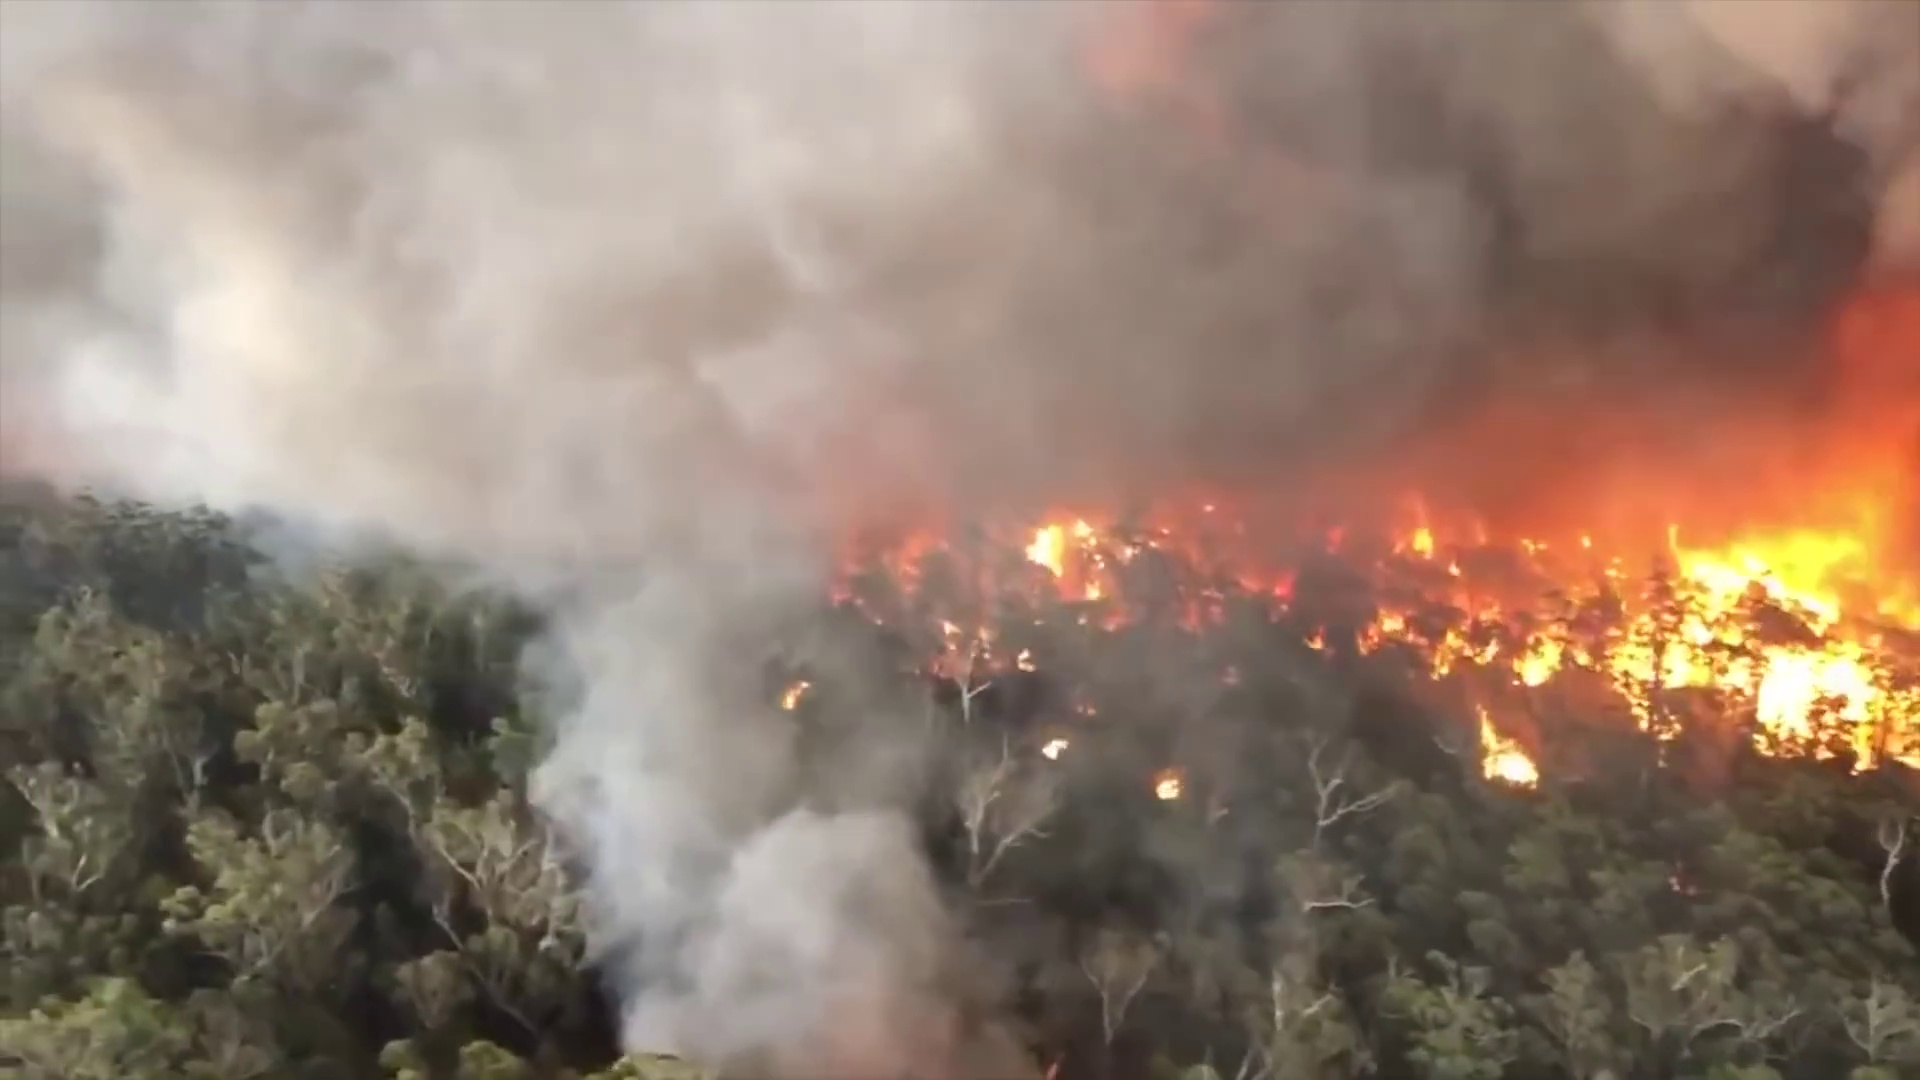fire: (1664, 529, 1920, 771), (1348, 576, 1660, 687), (1026, 520, 1100, 576), (1480, 729, 1538, 783)
